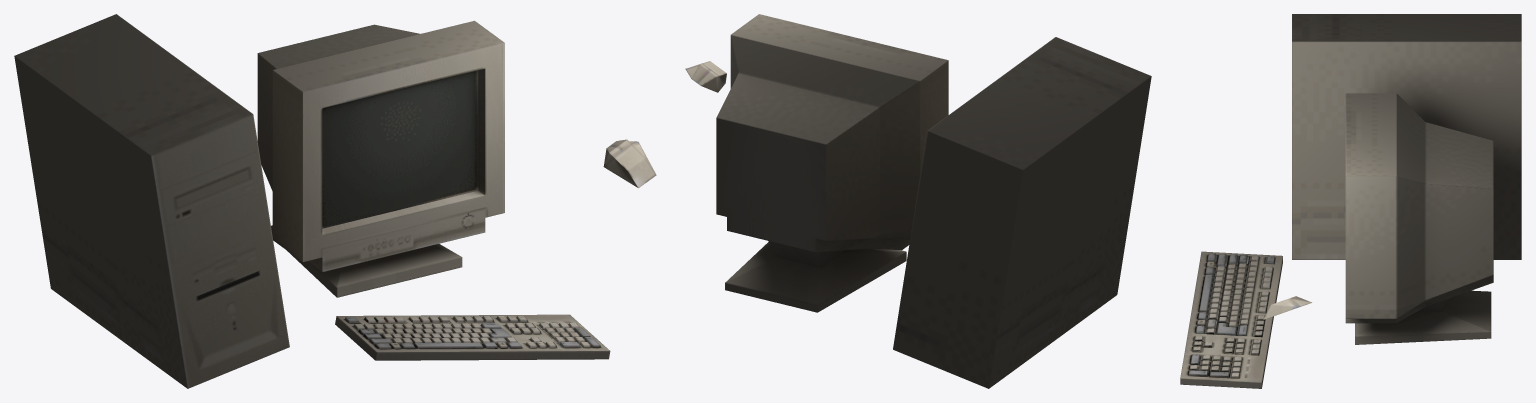
Rendered from main.glb.
3 renders of one model, left to right at view 1: azimuth 30°, elevation 25°; view 2: azimuth 150°, elevation 25°; view 3: azimuth 270°, elevation 25°, orthographic. The views are drawn at different scales.
Visible parts, largest first — view 1: Tower, Monitor, Screen, Keyboard, Monitor-stand, Mouse, numpad_keys; view 2: Tower, Monitor, Monitor-stand, Mouse; view 3: Tower, Monitor, Keyboard, Monitor-stand, numpad_keys, Mouse, key_space.
Boxes of the visible parts, box(x1,y1,x2,y2) form: Tower: box(14, 14, 289, 388); Monitor: box(257, 20, 504, 271); Screen: box(322, 70, 478, 228); Keyboard: box(335, 314, 610, 360); Monitor-stand: box(271, 225, 462, 297); Mouse: box(603, 139, 656, 188); numpad_keys: box(539, 322, 600, 347); Tower: box(893, 37, 1151, 388); Monitor: box(716, 14, 948, 252); Monitor-stand: box(725, 241, 906, 312); Mouse: box(685, 61, 726, 92); Tower: box(1292, 14, 1521, 259); Monitor: box(1345, 93, 1493, 323); Keyboard: box(1180, 251, 1282, 388); Monitor-stand: box(1355, 290, 1491, 344); numpad_keys: box(1188, 354, 1242, 378); Mouse: box(1263, 296, 1311, 319); key_space: box(1199, 275, 1212, 312).
Bounding box in the file's own units: 4.15 × 2.16 × 2.97.
1 material, 1 textured.
